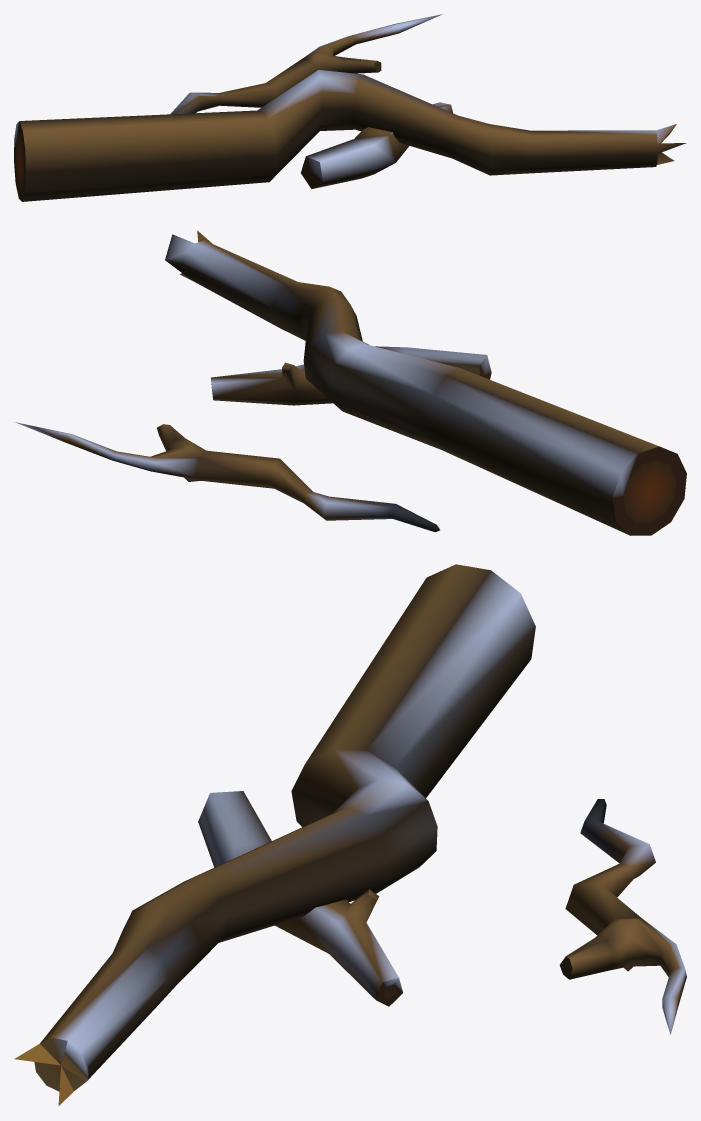
File: Log_02.fbx
The picture shows the model from 3 angles, top to bottom: view 1: azimuth 30°, elevation 25°; view 2: azimuth 150°, elevation 25°; view 3: azimuth 270°, elevation 25°; orthographic projection. The views are drawn at different scales.
Parts seen in each view (by area): view 1: Log_02; view 2: Log_02; view 3: Log_02.
Part boxes in pixels (box(x1,y1,x2,y2)): Log_02: box(14, 14, 686, 201); Log_02: box(15, 230, 686, 535); Log_02: box(14, 564, 686, 1105).
Bounding box in the file's own units: 3362 × 482 × 2188.
